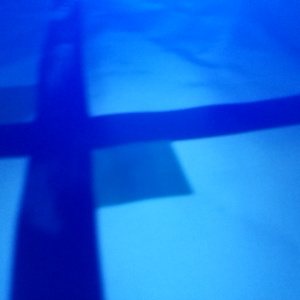bottom_right: (34, 117, 193, 208)
top_left: (1, 86, 83, 156)
